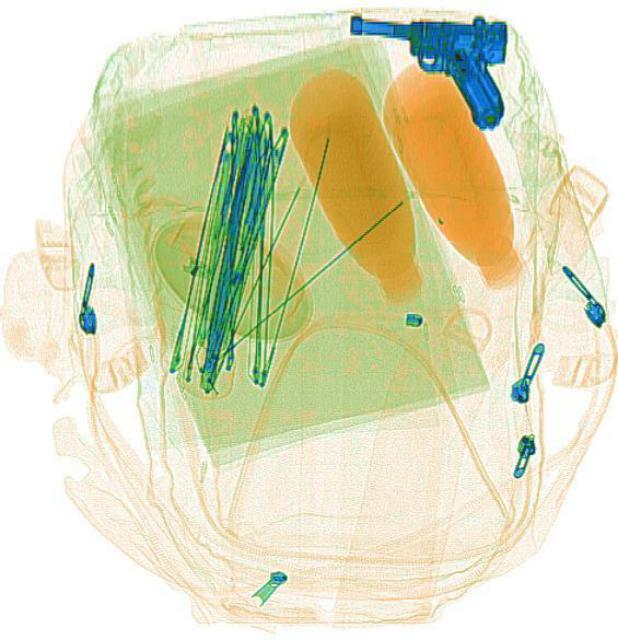Gun: (343, 12, 506, 128)
